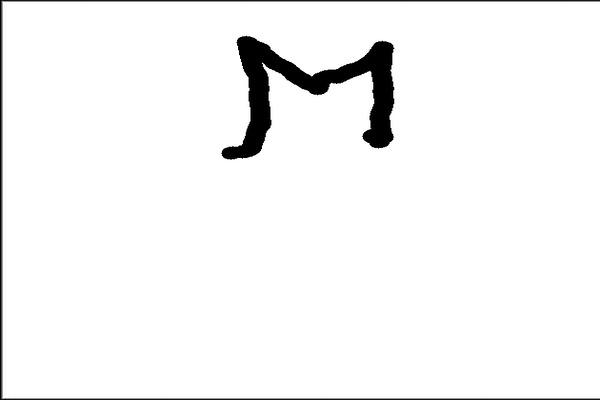M: (223, 32, 394, 161)
